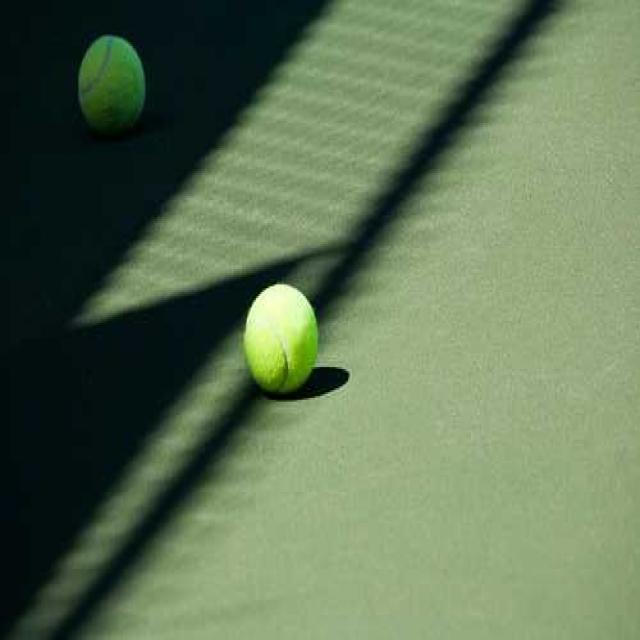Tennis_Ball: (245, 288, 318, 388), (73, 36, 150, 128)
